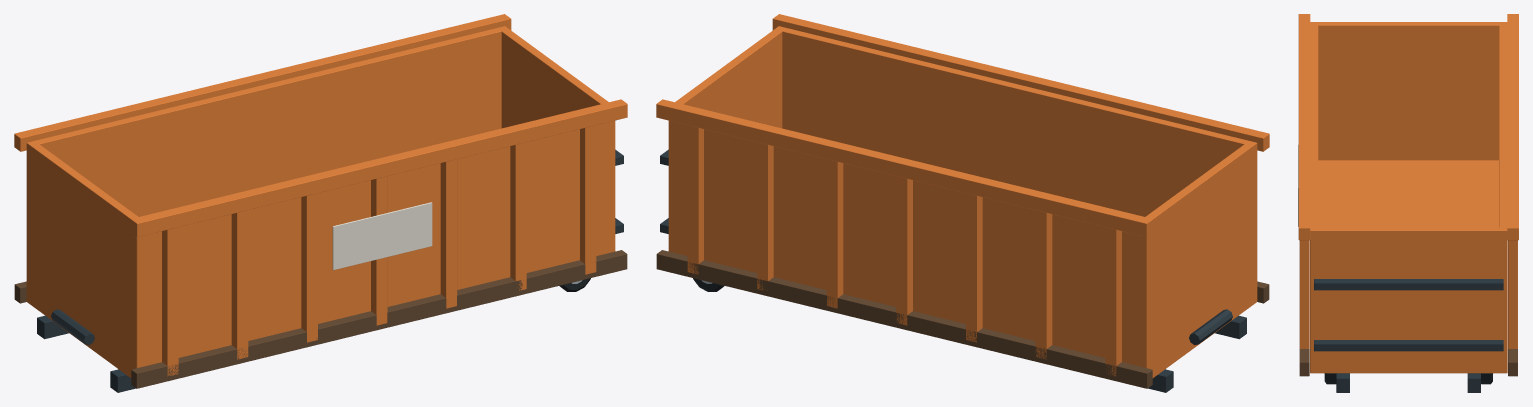
The model's file is b04_construction_rolloff_container.glb.
3 renders of one model, left to right at view 1: azimuth 30°, elevation 25°; view 2: azimuth 150°, elevation 25°; view 3: azimuth 270°, elevation 25°, orthographic. The views are drawn at different scales.
Visible parts, largest first — view 1: b04_construction_rolloff_container; view 2: b04_construction_rolloff_container; view 3: b04_construction_rolloff_container.
Boxes of the visible parts, left/top/right/bottom form: b04_construction_rolloff_container: left=14, top=14, right=627, bottom=392; b04_construction_rolloff_container: left=656, top=14, right=1269, bottom=392; b04_construction_rolloff_container: left=1298, top=14, right=1518, bottom=392.
Bounding box in the file's own units: 5.79 × 2.1 × 2.46.
